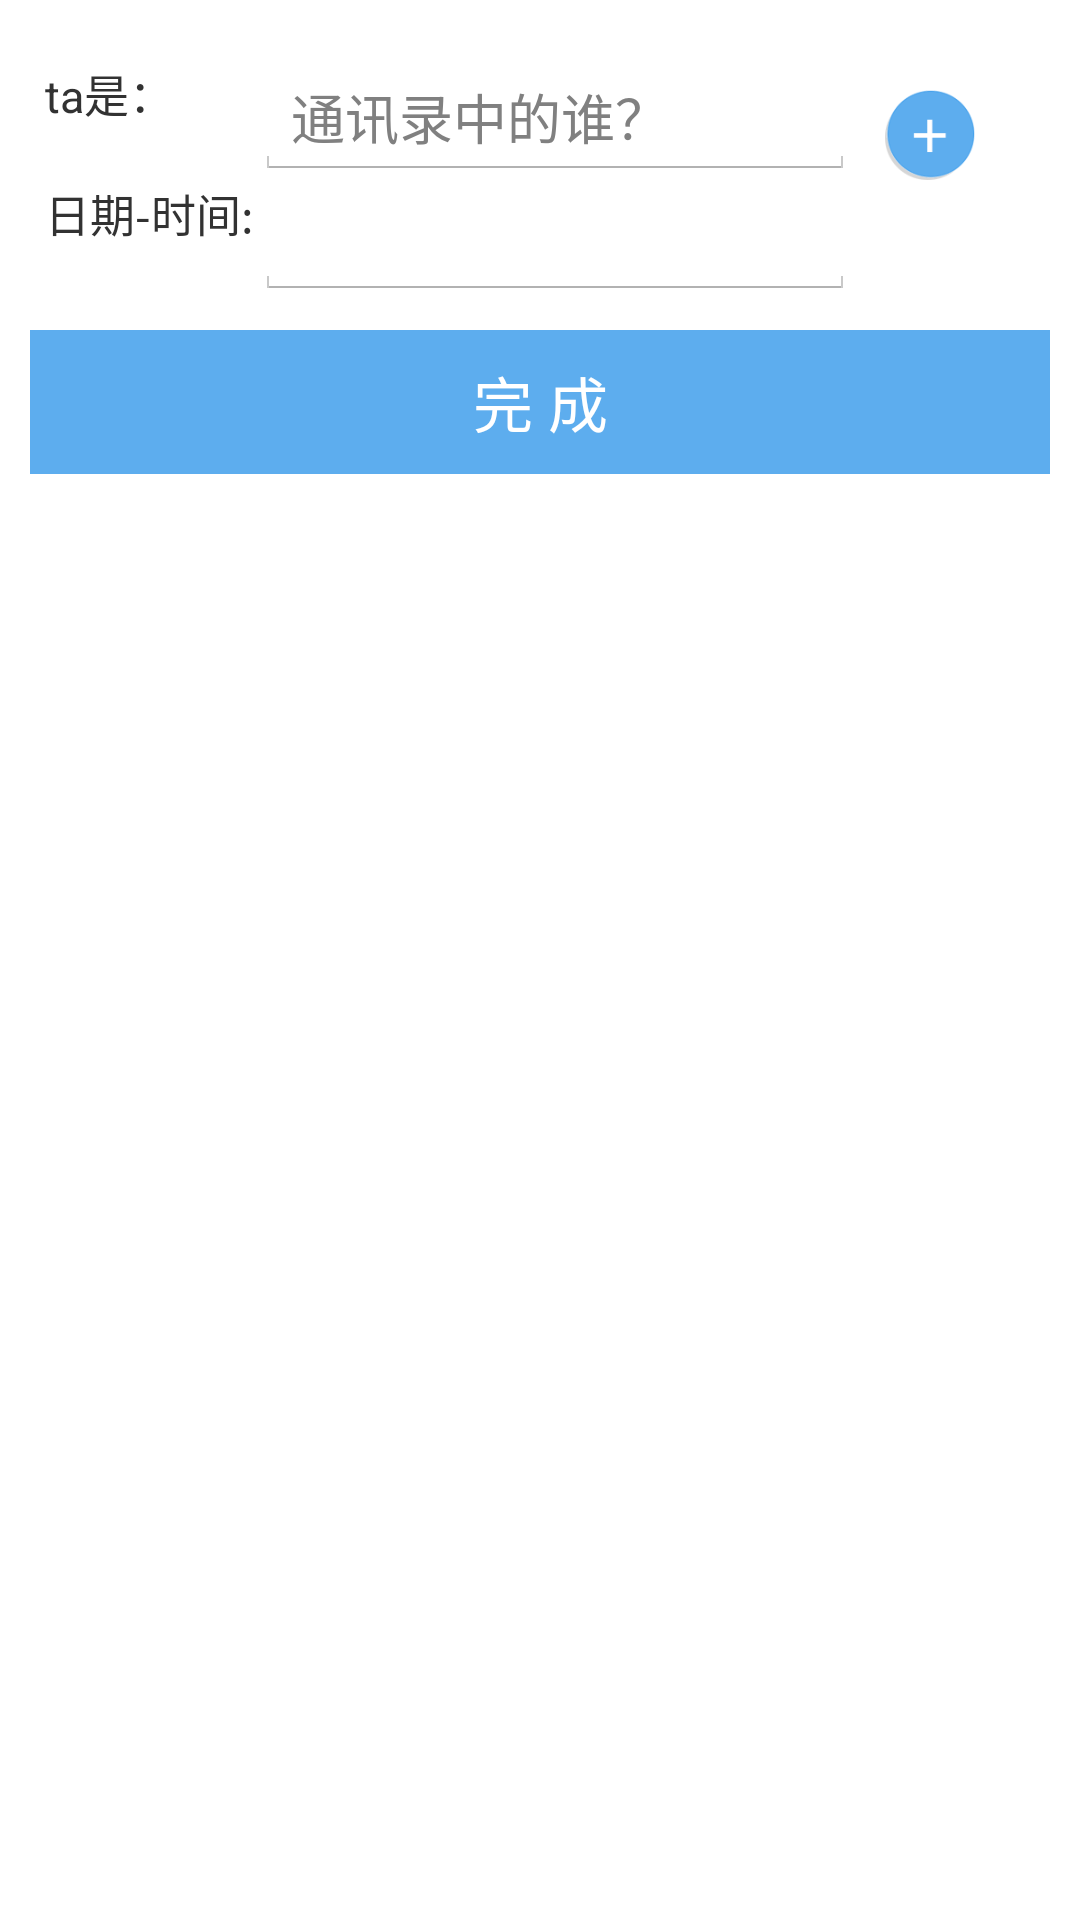

Icons on this 1080 × 1920 Android screen, each with the point to tap as [x,y]:
addbtn: [930,135]
